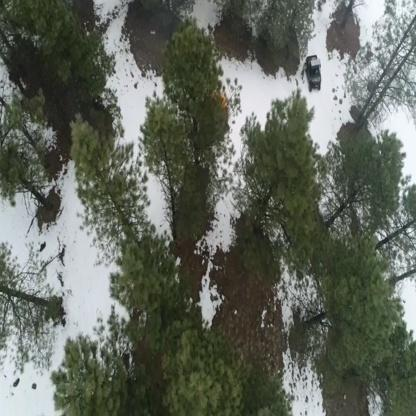Fire: (220, 95, 228, 108)
